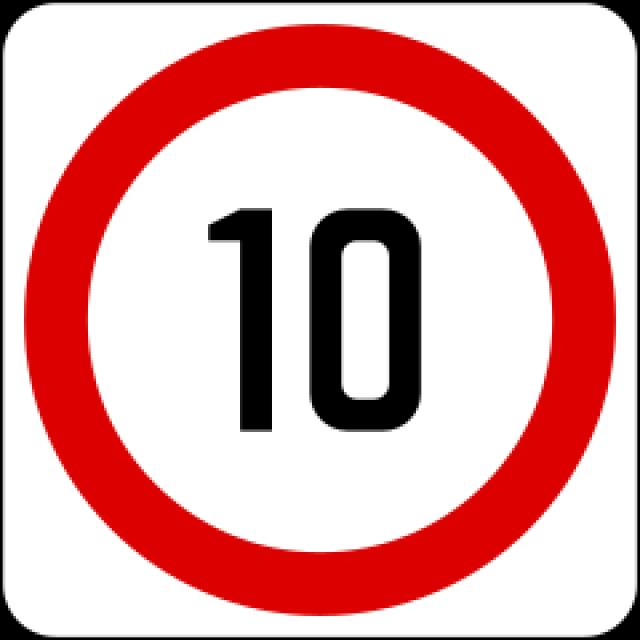Speed Limit -10-: (207, 203, 425, 437)
